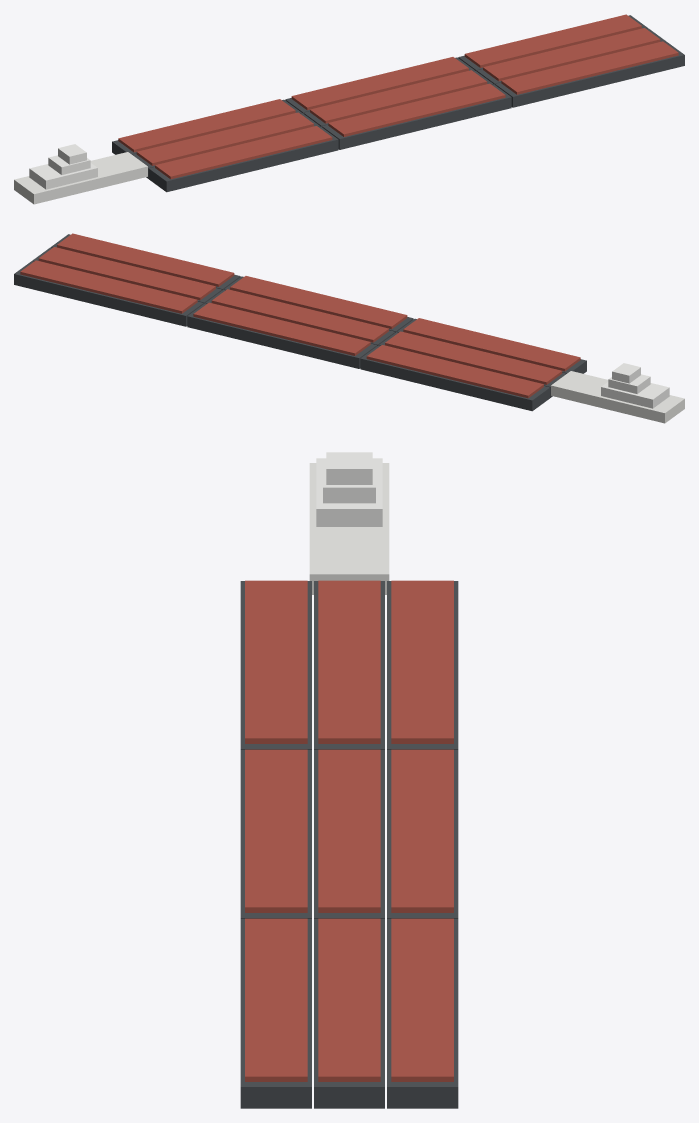
Rendered from convoy.glb.
3 views of the same model, one above another, from view 1: azimuth 30°, elevation 25°; view 2: azimuth 150°, elevation 25°; view 3: azimuth 270°, elevation 25° (orthographic). The views are drawn at different scales.
Visible parts, largest first — view 1: cover, hull, pusher, house; view 2: cover, hull, pusher, house; view 3: cover, hull, pusher, house.
Part boxes in pixels (x1,y1,x2,y2): cover: (118,14,678,179); hull: (112,15,684,192); pusher: (14,152,147,204); house: (29,144,97,189); cover: (20,233,580,398); hull: (14,234,586,411); pusher: (551,371,684,423); house: (601,363,669,408); cover: (245,580,453,1081); hull: (240,581,458,1108); pusher: (309,463,389,594); house: (316,452,382,526).
Size of the model in its own units: 220 by 12.7 by 32.7.
